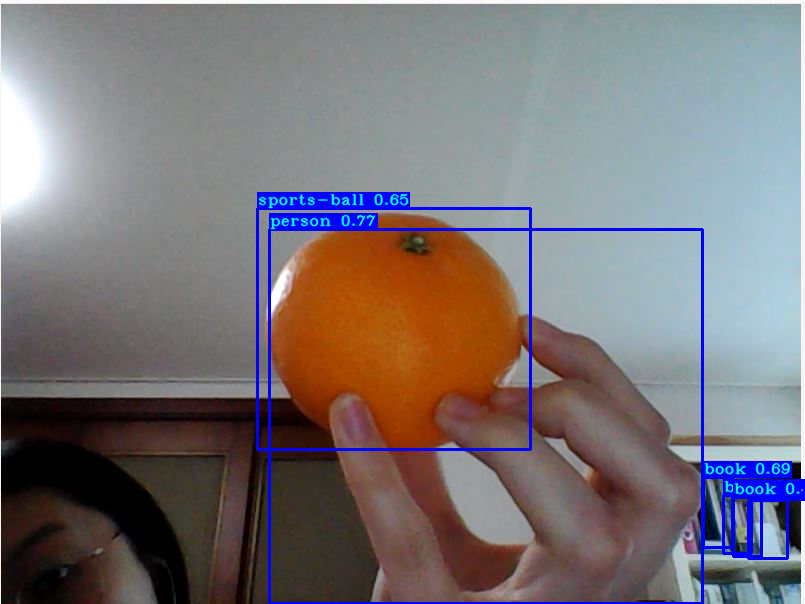book: (748, 500, 787, 558), (703, 477, 732, 547), (733, 497, 761, 556), (723, 495, 751, 553)
person: (269, 229, 702, 603)
sports-ball: (257, 208, 530, 449)
